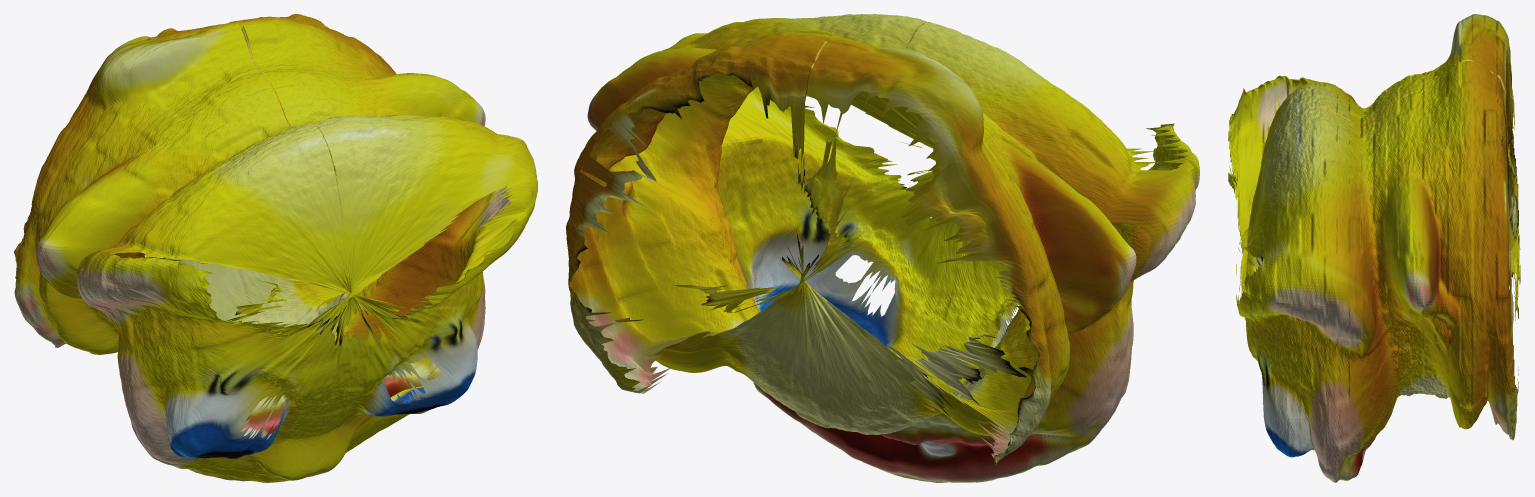
3 views of the same model, side by side, from view 1: azimuth 30°, elevation 25°; view 2: azimuth 150°, elevation 25°; view 3: azimuth 270°, elevation 25° (orthographic). The views are drawn at different scales.
Parts seen in each view (by area): view 1: geometry_0; view 2: geometry_0; view 3: geometry_0.
Boxes of the visible parts, box(x1,y1,x2,y2) form: geometry_0: box(14, 14, 537, 482); geometry_0: box(566, 14, 1199, 482); geometry_0: box(1228, 14, 1520, 482).
Bounding box in the file's own units: 1.95 × 1.71 × 1.12.
1 material, 1 textured.
